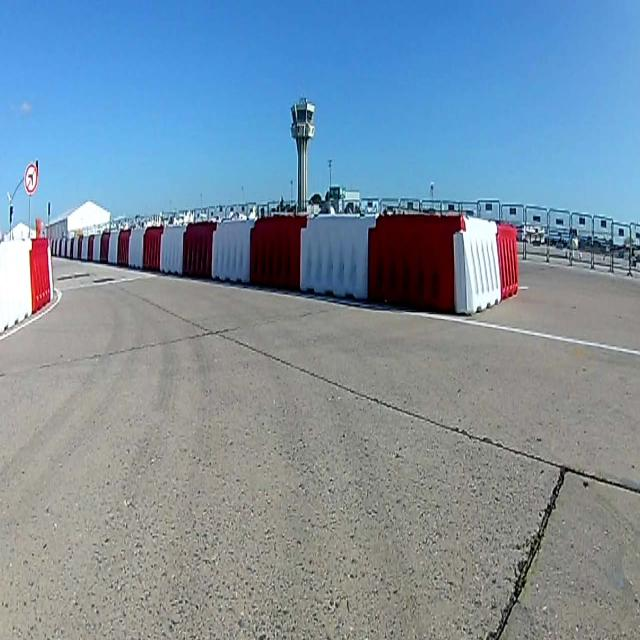soladonulmez: (24, 163, 40, 192)
